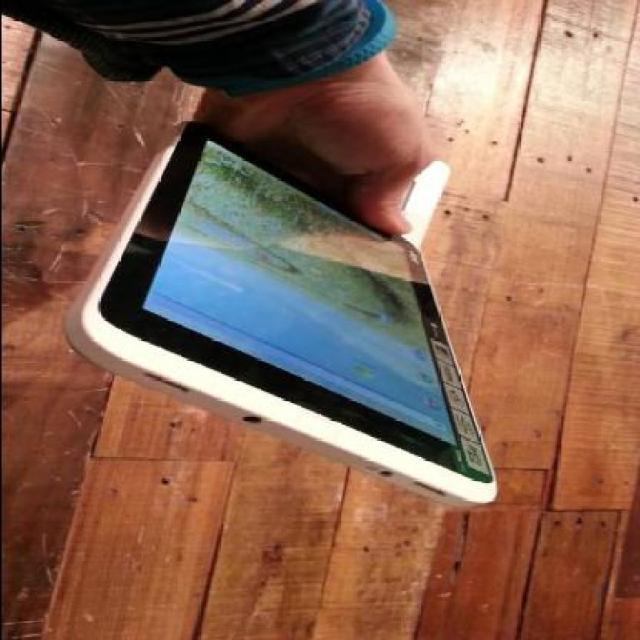tablet: (75, 112, 542, 503)
